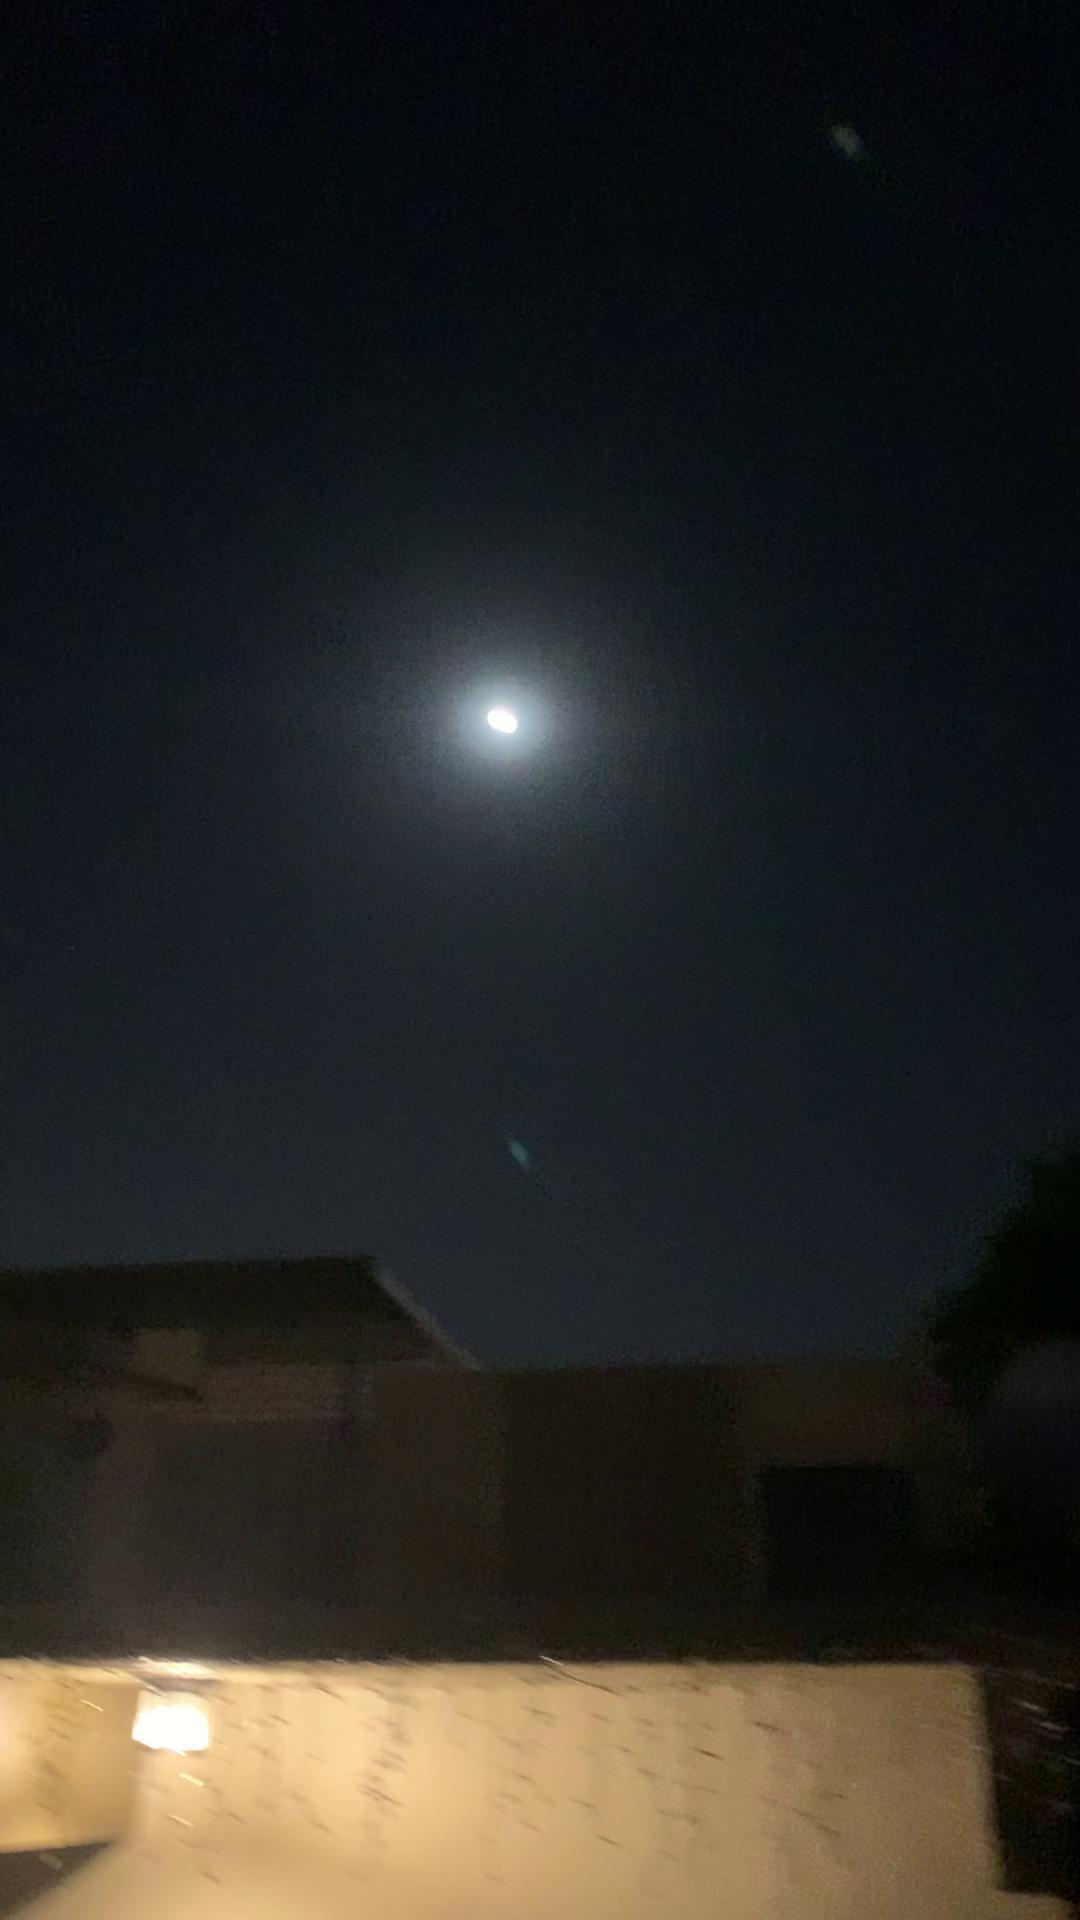moon: (459, 687, 546, 766)
